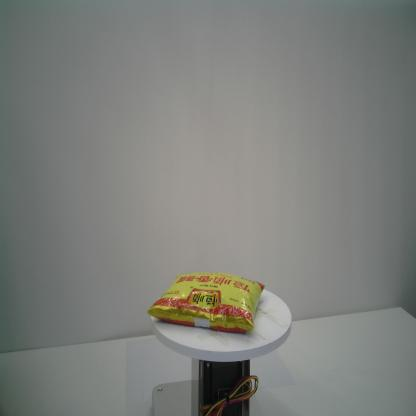Seasoner: (148, 272, 266, 334)
